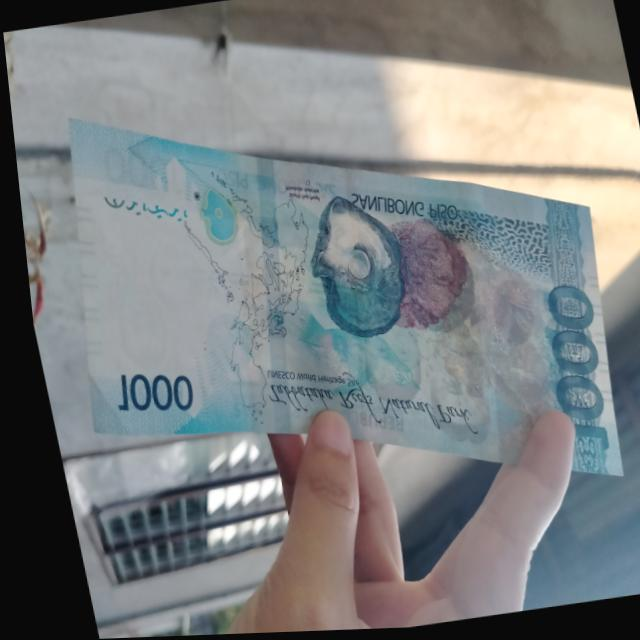security_thread: (210, 151, 322, 439)
see_through_mark: (92, 174, 188, 238)
value_watermark: (80, 201, 129, 295)
watermark: (89, 212, 213, 378)
